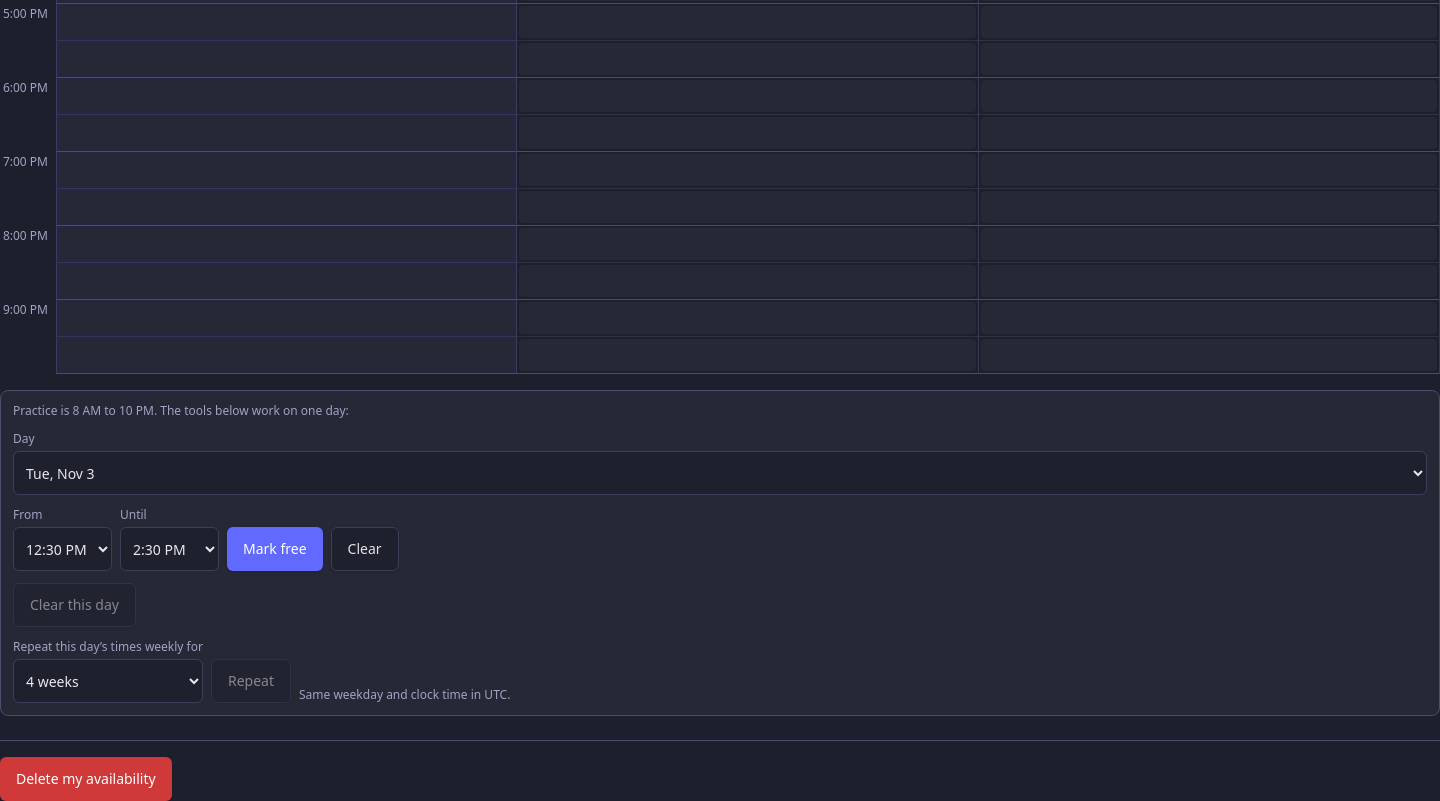
Test: AvailabilityMine › asks before deleting, then deletes
The width and height of the screenshot is (1440, 801).
(page scrolled)
What coordinates should you click on to do the following:
click the button "Delete my availability"
I would click on:
 (86, 779)
Its box is [0,757,172,800].
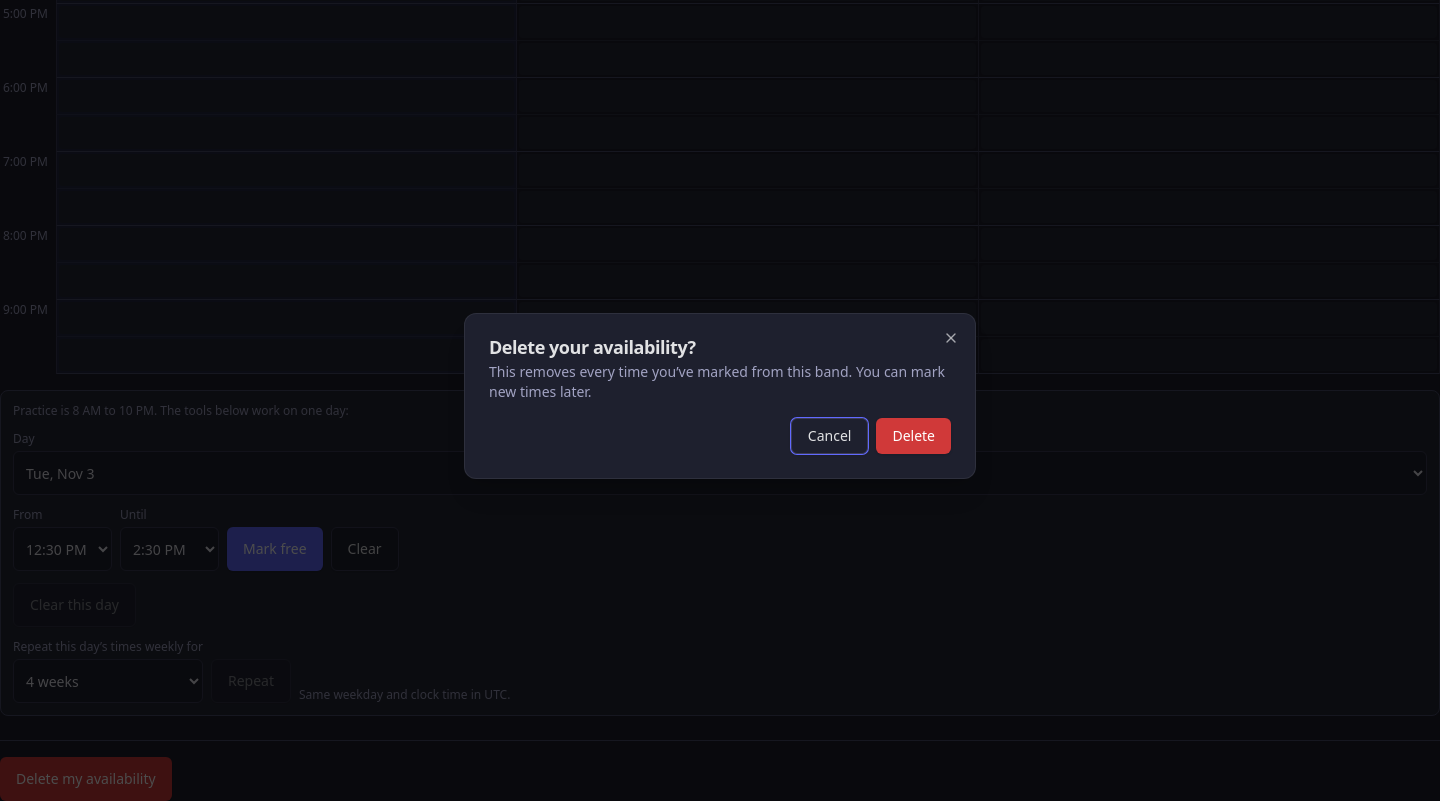
What coordinates should you click on to do the following:
click the button "Delete"
I would click on:
 (914, 436)
Its box is [876,418,951,454].
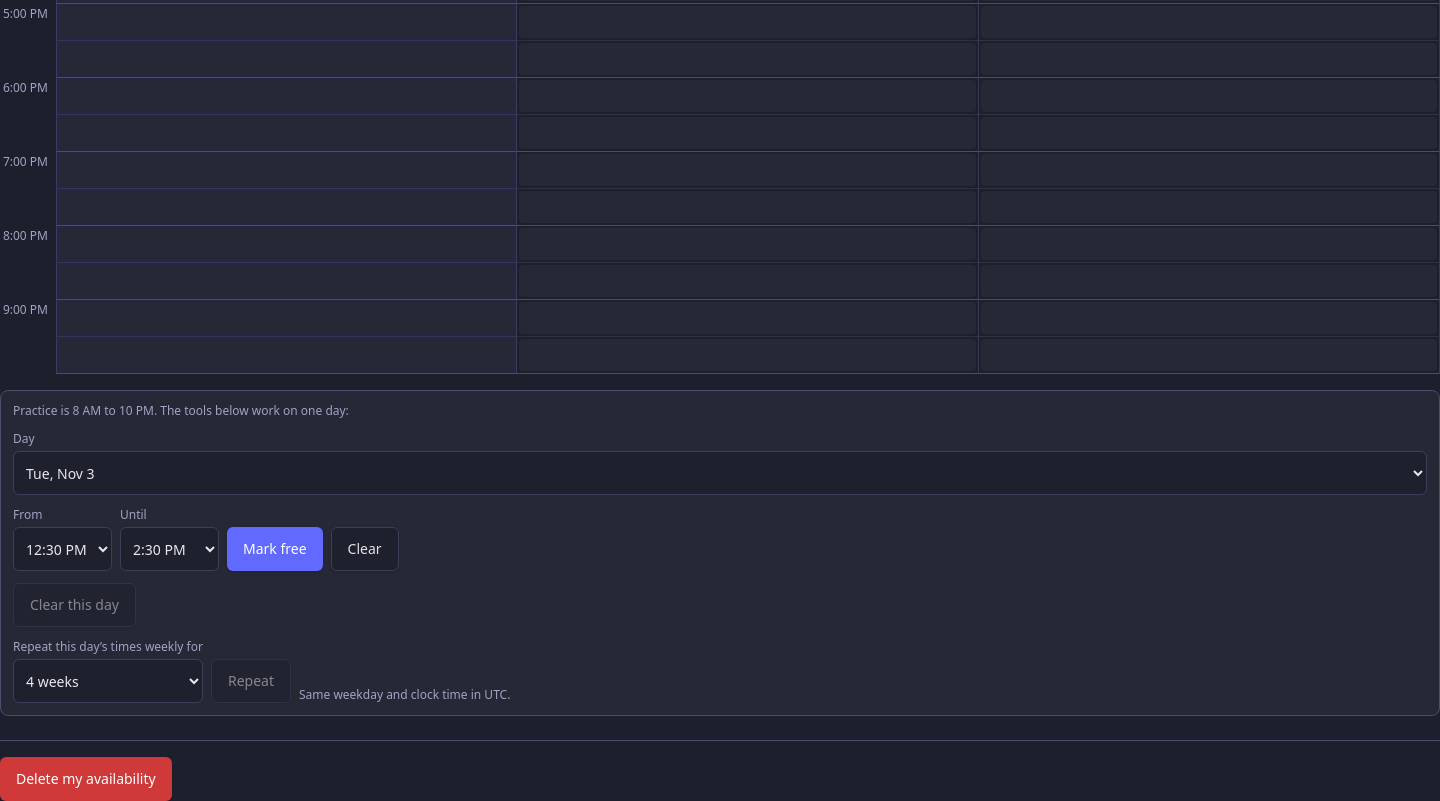
Expected: the dialog is gone
